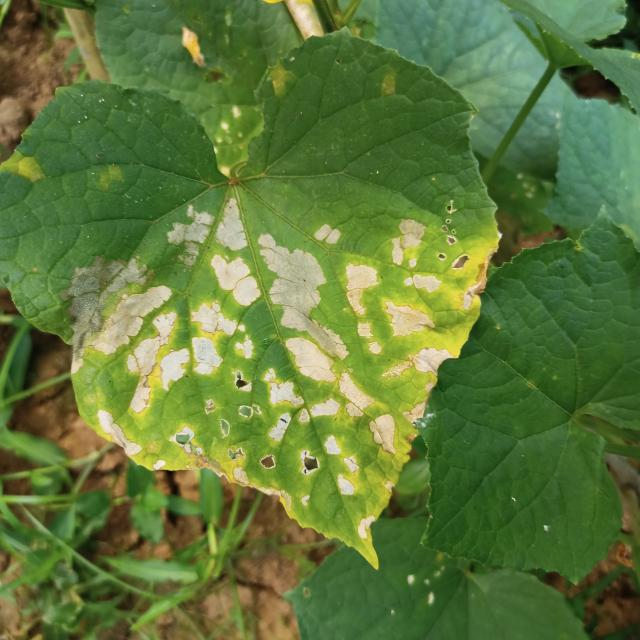disease_cucumber: (58, 194, 475, 515), (0, 144, 56, 190)
